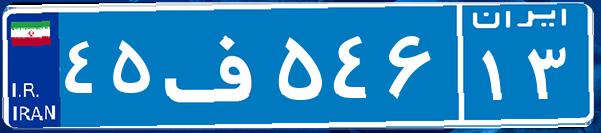1: (475, 38, 525, 113)
3: (525, 38, 570, 115)
4: (330, 28, 385, 110), (57, 26, 110, 107)
5: (273, 28, 330, 110), (110, 28, 158, 105)
6: (385, 28, 445, 110)
ف: (158, 15, 273, 115)
